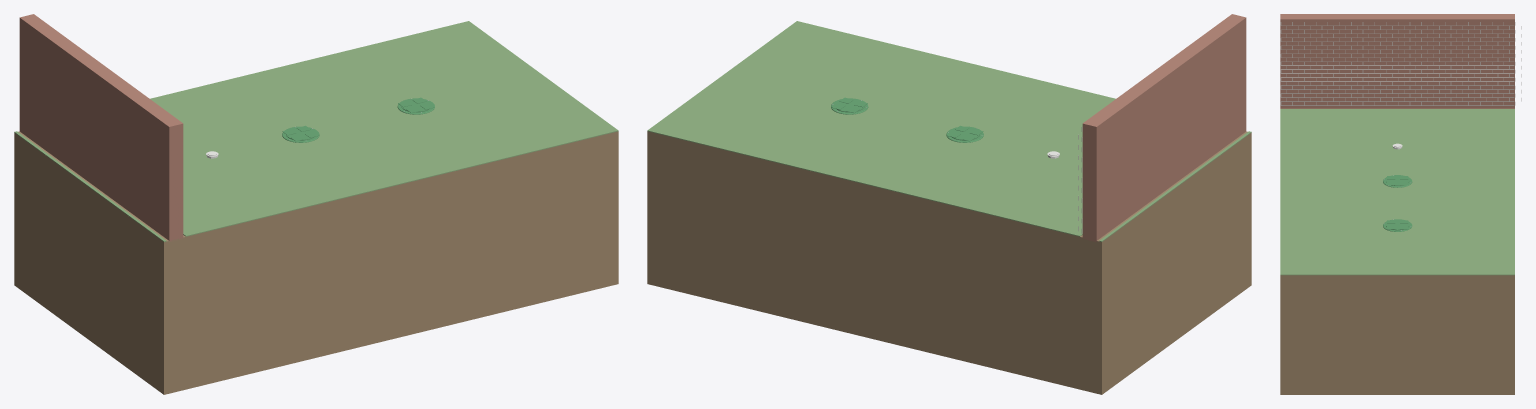
File: septic_tank_risers.glb
3 views of the same model, side by side, from view 1: azimuth 30°, elevation 25°; view 2: azimuth 150°, elevation 25°; view 3: azimuth 270°, elevation 25° (orthographic). The views are drawn at different scales.
Visible parts, largest first — view 1: soil, grass, house_wall, soil_section, grass_section; view 2: soil, grass, house_wall, soil_section, grass_section; view 3: grass, soil, house_wall, soil_section, grass_section, lid_inlet, lid_outlet.
Boxes of the visible parts, left/top/right/bottom form: soil: left=14, top=131, right=618, bottom=394; grass: left=14, top=21, right=618, bottom=241; house_wall: left=19, top=14, right=183, bottom=241; soil_section: left=14, top=133, right=89, bottom=339; grass_section: left=14, top=21, right=543, bottom=186; soil: left=647, top=131, right=1251, bottom=394; grass: left=647, top=21, right=1251, bottom=241; house_wall: left=1078, top=14, right=1246, bottom=241; soil_section: left=1099, top=186, right=1176, bottom=394; grass_section: left=648, top=75, right=1176, bottom=240; grass: left=1280, top=109, right=1514, bottom=275; soil: left=1280, top=108, right=1514, bottom=394; house_wall: left=1280, top=14, right=1521, bottom=108; soil_section: left=1397, top=108, right=1514, bottom=394; grass_section: left=1397, top=109, right=1513, bottom=275; lid_inlet: left=1383, top=175, right=1412, bottom=187; lid_outlet: left=1383, top=219, right=1412, bottom=231.
Bounding box in the file's own units: 7.01 × 3.93 × 4.11.
